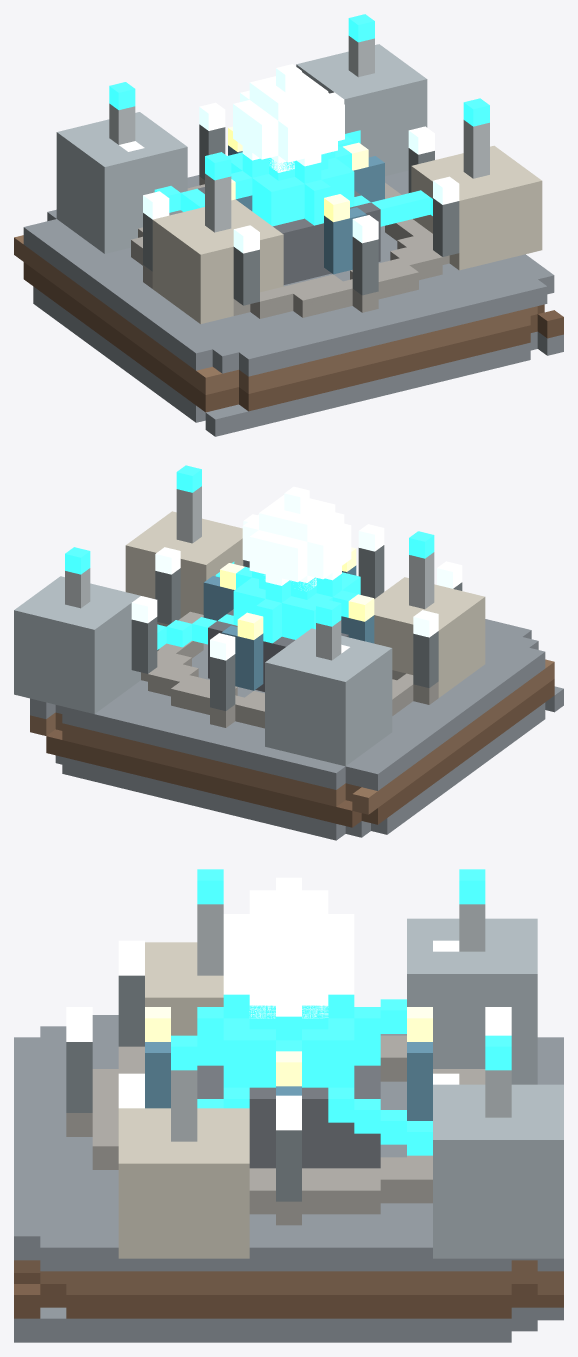
File: idea.glb
3 views of the same model, one above another, from view 1: azimuth 30°, elevation 25°; view 2: azimuth 150°, elevation 25°; view 3: azimuth 270°, elevation 25° (orthographic). The views are drawn at different scales.
Parts seen in each view (by area): view 1: VX_idea_LOD0, ANIM_crystal_pulse; view 2: VX_idea_LOD0, ANIM_crystal_pulse; view 3: VX_idea_LOD0, ANIM_crystal_pulse.
Part boxes in pixels (<box>): VX_idea_LOD0: <box>14,14,563,436</box>; ANIM_crystal_pulse: <box>233,64,344,172</box>; VX_idea_LOD0: <box>14,465,563,840</box>; ANIM_crystal_pulse: <box>242,486,351,591</box>; VX_idea_LOD0: <box>14,869,563,1342</box>; ANIM_crystal_pulse: <box>223,877,354,1018</box>.
Bounding box in the file's own units: 4.84 × 3.18 × 4.62.
